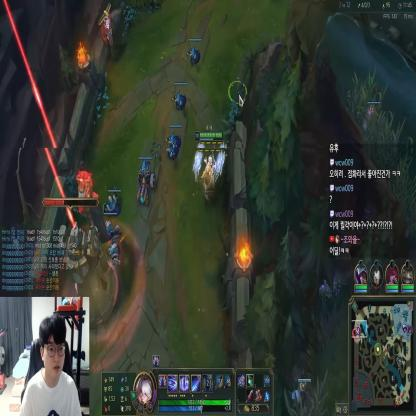streamer: (19, 314, 81, 416)
